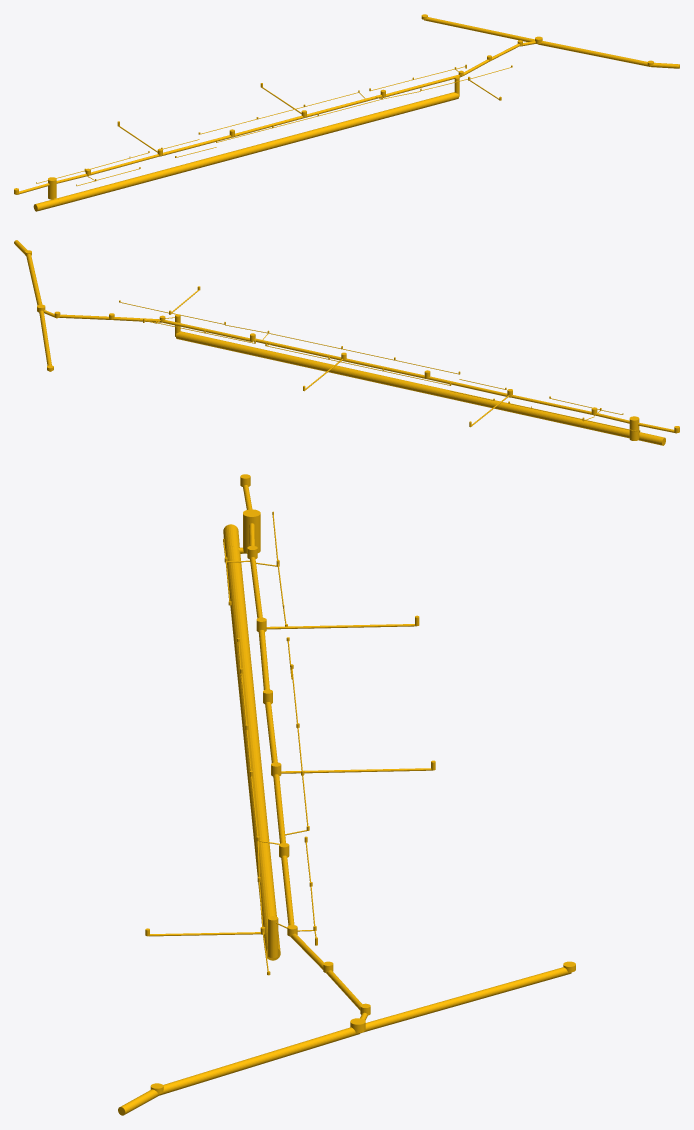
Rendered from 大宮管渠人孔-2.ifc.glb.
3 views of the same model, one above another, from view 1: azimuth 30°, elevation 25°; view 2: azimuth 150°, elevation 25°; view 3: azimuth 270°, elevation 25° (orthographic). The views are drawn at different scales.
Parts seen in each view (by area): view 1: product-a3f503cc-339d-409f-b774-bb05fed2816e-body, product-a3f503cc-339d-409f-b774-bb05fed2811d-body, product-a3f503cc-339d-409f-b774-bb05fed28172-body; view 2: product-a3f503cc-339d-409f-b774-bb05fed2816e-body, product-a3f503cc-339d-409f-b774-bb05fed2811d-body, product-a3f503cc-339d-409f-b774-bb05fed28176-body, product-a3f503cc-339d-409f-b774-bb05fed28174-body, product-a3f503cc-339d-409f-b774-bb05fed2816b-body; view 3: product-a3f503cc-339d-409f-b774-bb05fed2811d-body, product-a3f503cc-339d-409f-b774-bb05fed2816e-body, product-a3f503cc-339d-409f-b774-bb05fed28172-body, product-a3f503cc-339d-409f-b774-bb05fed2814d-body.
Boxes of the visible parts, box(x1,y1,x2,y2) form: product-a3f503cc-339d-409f-b774-bb05fed2816e-body: box(252, 92, 458, 153); product-a3f503cc-339d-409f-b774-bb05fed2811d-body: box(57, 146, 253, 205); product-a3f503cc-339d-409f-b774-bb05fed28172-body: box(424, 17, 530, 41); product-a3f503cc-339d-409f-b774-bb05fed2816e-body: box(176, 331, 414, 390); product-a3f503cc-339d-409f-b774-bb05fed2811d-body: box(412, 382, 629, 438); product-a3f503cc-339d-409f-b774-bb05fed28176-body: box(162, 320, 252, 342); product-a3f503cc-339d-409f-b774-bb05fed28174-body: box(343, 358, 426, 378); product-a3f503cc-339d-409f-b774-bb05fed2816b-body: box(427, 376, 509, 397); product-a3f503cc-339d-409f-b774-bb05fed2811d-body: box(225, 546, 259, 746); product-a3f503cc-339d-409f-b774-bb05fed2816e-body: box(244, 741, 280, 960); product-a3f503cc-339d-409f-b774-bb05fed28172-body: box(371, 967, 571, 1029); product-a3f503cc-339d-409f-b774-bb05fed2814d-body: box(178, 1051, 277, 1088).
Size of the model in its own units: 573 by 21.31 by 179.
